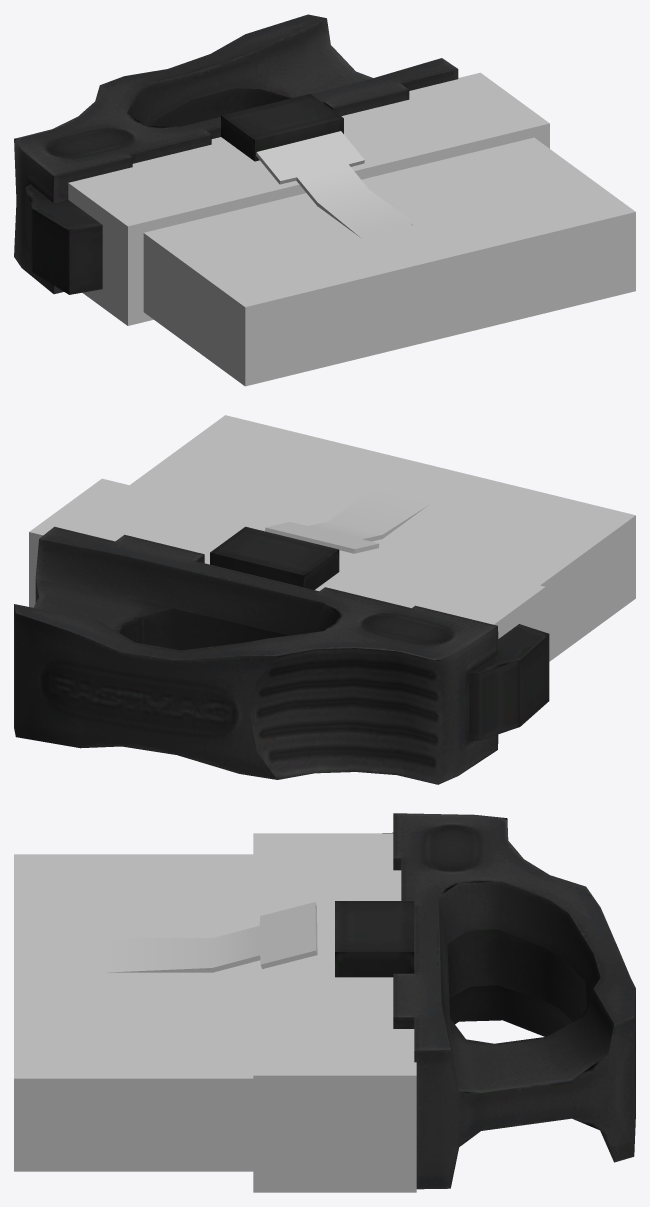
The model's file is t6_attach_fastmag_dsr50_world_LOD0.obj.
3 renders of one model, top to bottom at view 1: azimuth 30°, elevation 25°; view 2: azimuth 150°, elevation 25°; view 3: azimuth 270°, elevation 25°, orthographic. The views are drawn at different scales.
Visible parts, largest first — view 1: mtl_t6_wpn_sniper_dsr50_camo2, mtl_t6_attach_sniper_fastmag, mtl_t6_wpn_sniper_dsr50; view 2: mtl_t6_attach_sniper_fastmag, mtl_t6_wpn_sniper_dsr50_camo2, mtl_t6_wpn_sniper_dsr50; view 3: mtl_t6_wpn_sniper_dsr50_camo2, mtl_t6_attach_sniper_fastmag, mtl_t6_wpn_sniper_dsr50.
Part boxes in pixels (left/top/right/bottom): mtl_t6_wpn_sniper_dsr50_camo2: left=68, top=72, right=635, bottom=386; mtl_t6_attach_sniper_fastmag: left=14, top=14, right=458, bottom=294; mtl_t6_wpn_sniper_dsr50: left=257, top=131, right=364, bottom=180; mtl_t6_attach_sniper_fastmag: left=14, top=526, right=549, bottom=784; mtl_t6_wpn_sniper_dsr50_camo2: left=29, top=415, right=635, bottom=661; mtl_t6_wpn_sniper_dsr50: left=266, top=522, right=378, bottom=548; mtl_t6_wpn_sniper_dsr50_camo2: left=14, top=833, right=416, bottom=1192; mtl_t6_attach_sniper_fastmag: left=335, top=813, right=635, bottom=1189; mtl_t6_wpn_sniper_dsr50: left=259, top=902, right=315, bottom=964.
Bounding box in the file's own units: 14.59 × 4.29 × 14.6.
